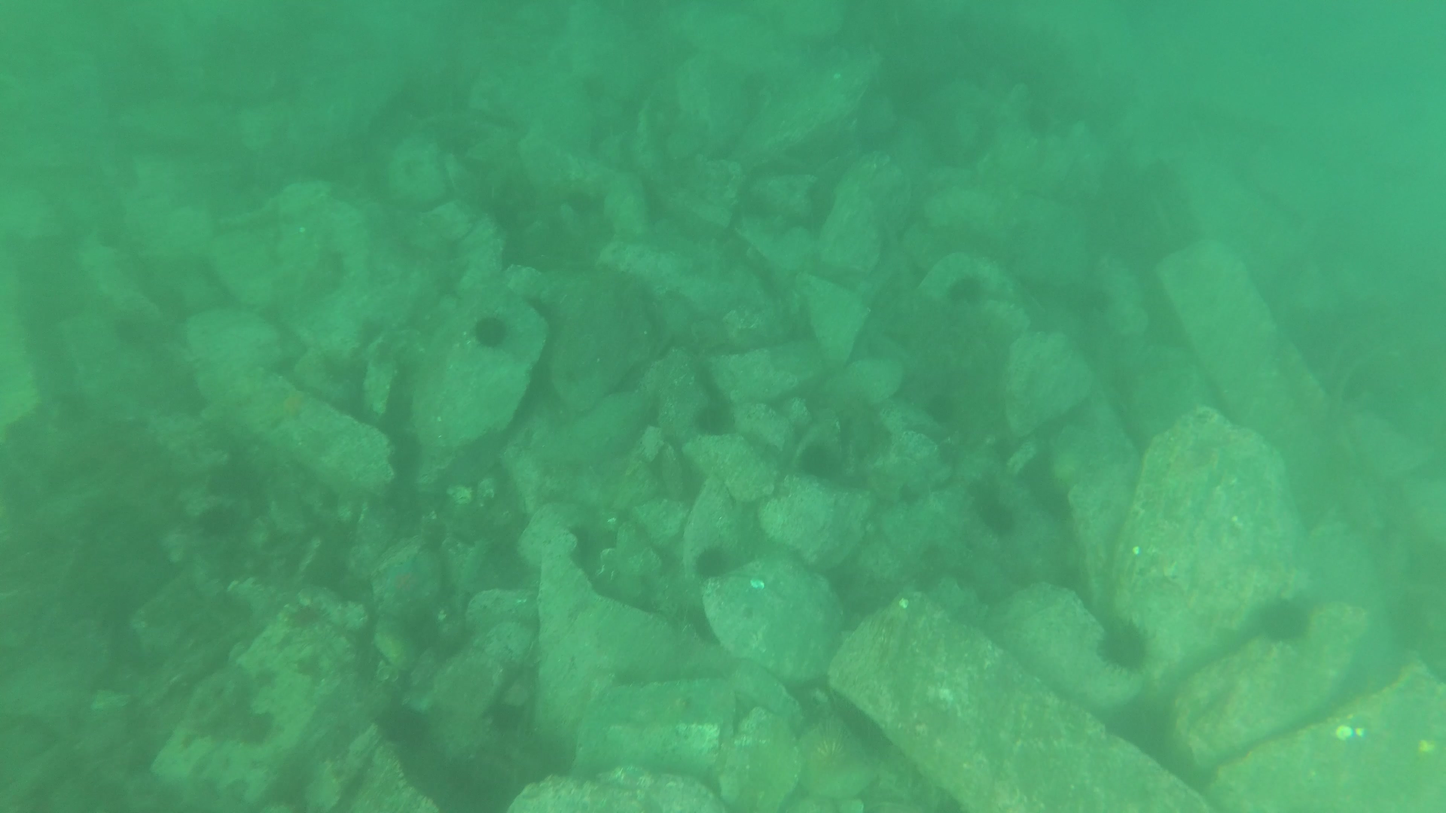starfish: (1091, 615, 1156, 677), (374, 702, 433, 754), (1263, 601, 1315, 652), (940, 266, 987, 313), (685, 542, 733, 583), (791, 443, 837, 483), (467, 309, 505, 352), (969, 498, 1010, 532), (688, 396, 726, 432)
